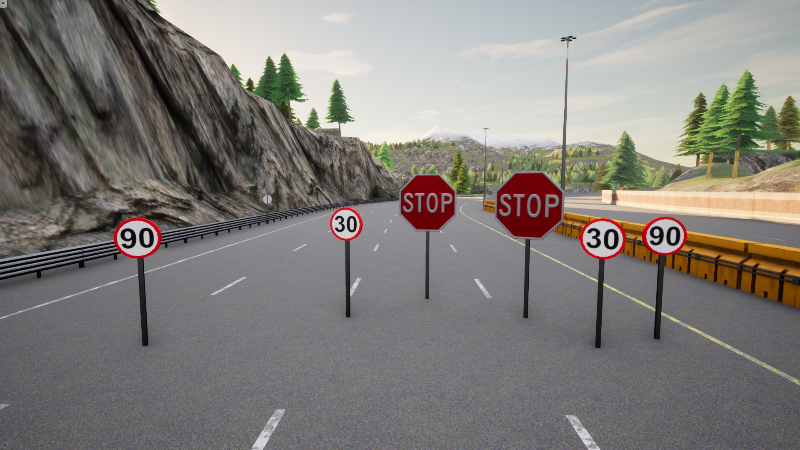fast: (114, 217, 162, 259), (641, 216, 687, 256)
slow: (580, 219, 625, 260), (330, 208, 363, 241)
stop: (495, 172, 565, 239), (399, 175, 456, 232)
